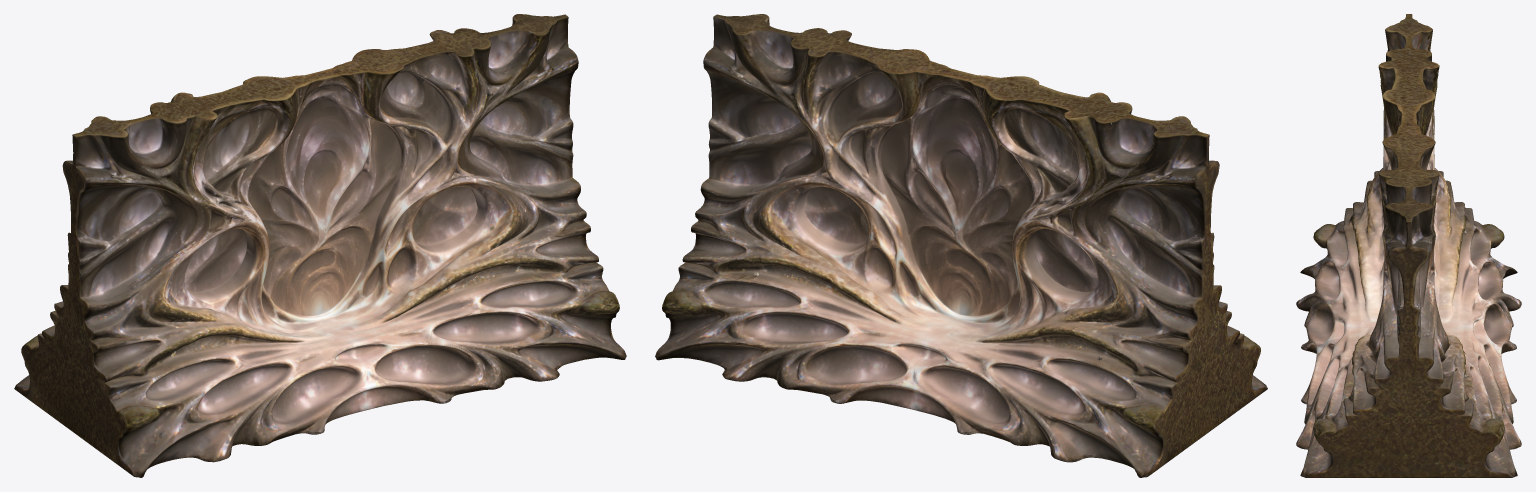
File: root-entry.glb
3 renders of one model, left to right at view 1: azimuth 30°, elevation 25°; view 2: azimuth 150°, elevation 25°; view 3: azimuth 270°, elevation 25°, orthographic. The views are drawn at different scales.
Parts seen in each view (by area): view 1: tripo_node_fe855a44-0e91-4c19-a0ef-82137118f575; view 2: tripo_node_fe855a44-0e91-4c19-a0ef-82137118f575; view 3: tripo_node_fe855a44-0e91-4c19-a0ef-82137118f575.
Part boxes in pixels (left/top/right/bottom): tripo_node_fe855a44-0e91-4c19-a0ef-82137118f575: left=14, top=14, right=626, bottom=477; tripo_node_fe855a44-0e91-4c19-a0ef-82137118f575: left=655, top=14, right=1267, bottom=477; tripo_node_fe855a44-0e91-4c19-a0ef-82137118f575: left=1296, top=14, right=1521, bottom=477.
Bounding box in the file's own units: 0.9813 × 0.569 × 0.4506.
Materials: 1 (1 with a texture image).
